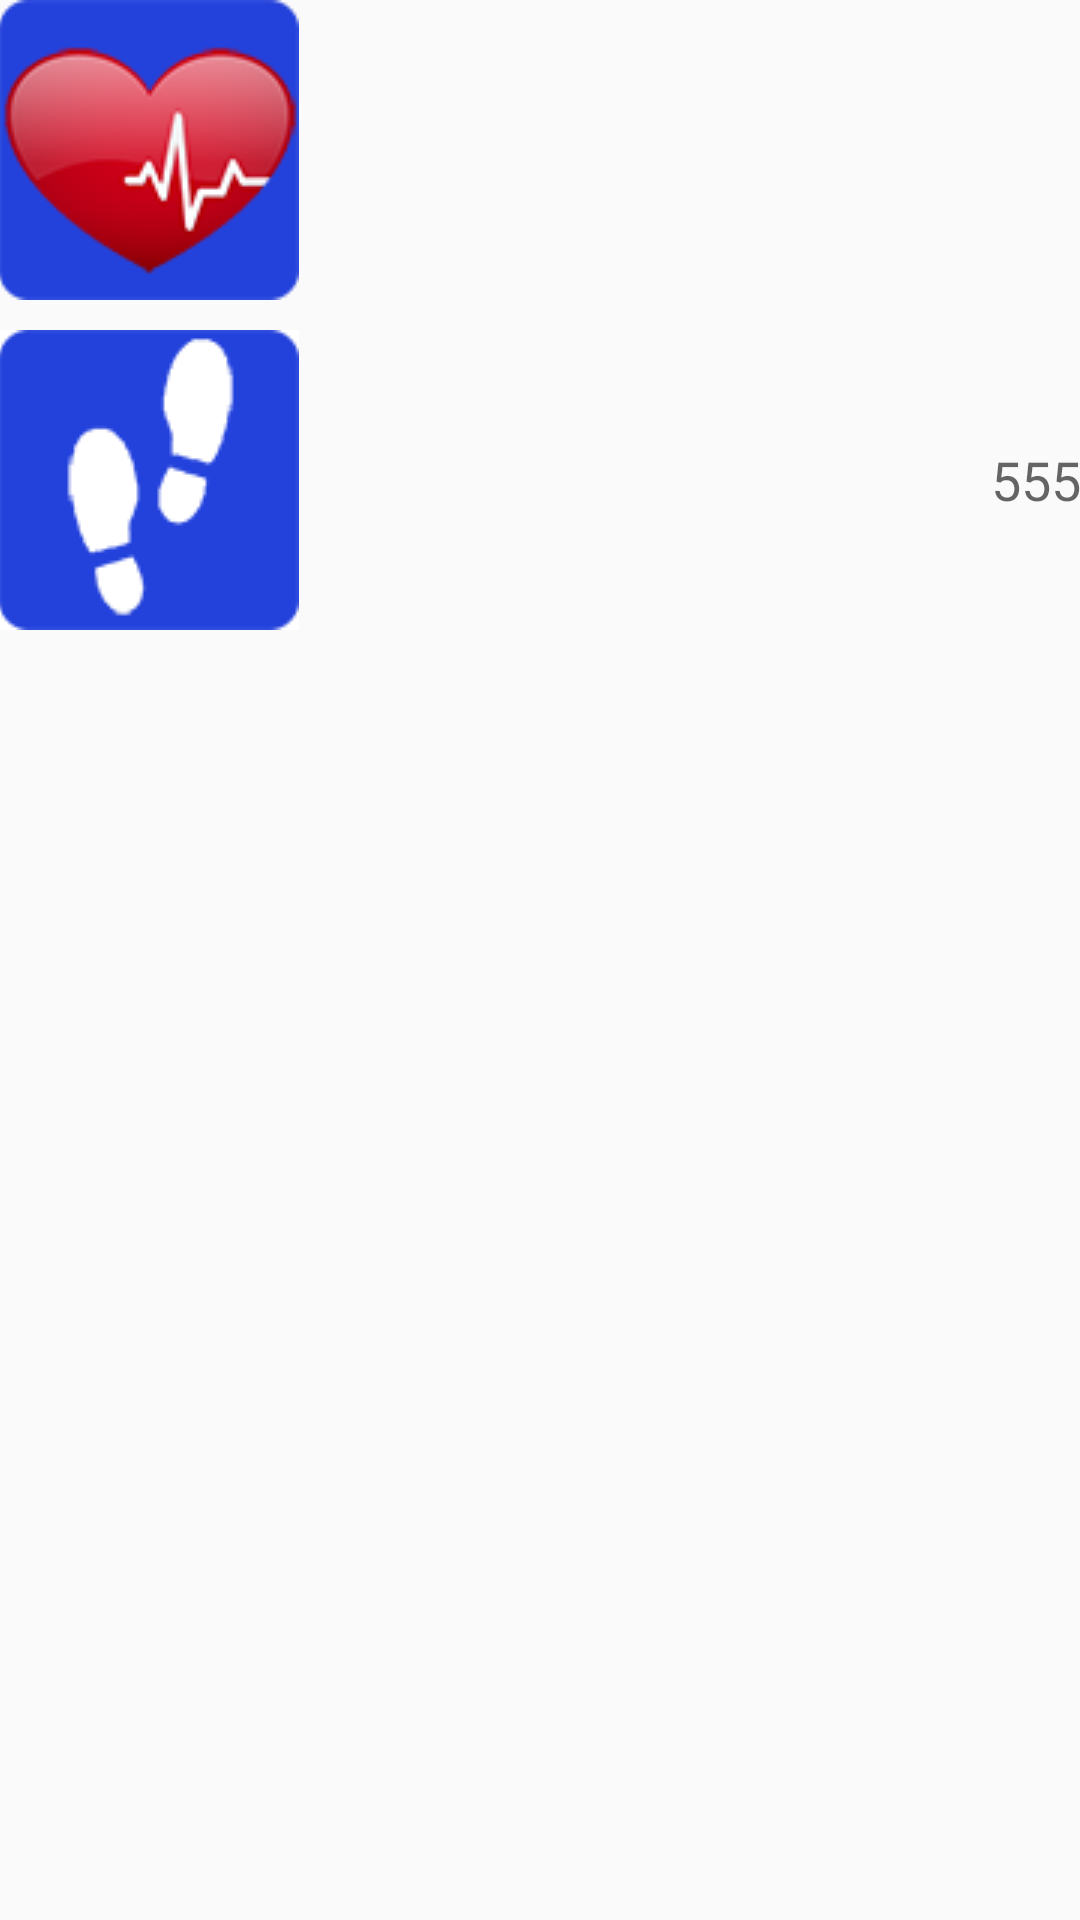

Where icons sit on this 1080 x 1920 app screen, as (x1, y1, x2, y2):
foot: (0, 330, 299, 630)
heart: (0, 0, 299, 300)
